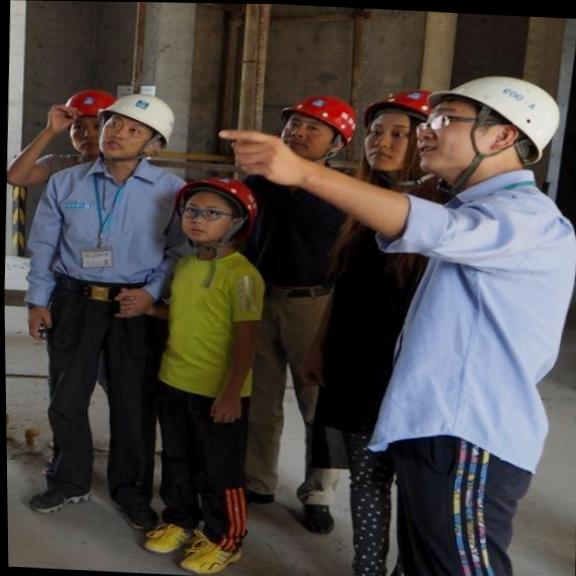no_safety_vest: (363, 174, 576, 470), (321, 168, 443, 473), (14, 156, 188, 323), (157, 246, 274, 405), (237, 167, 359, 301)
